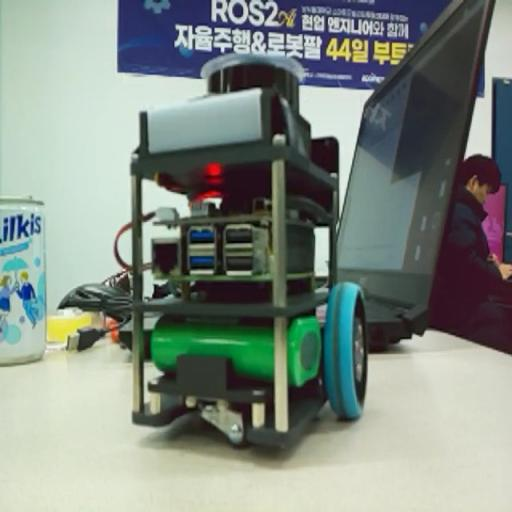pinky_63: (114, 50, 382, 446)
